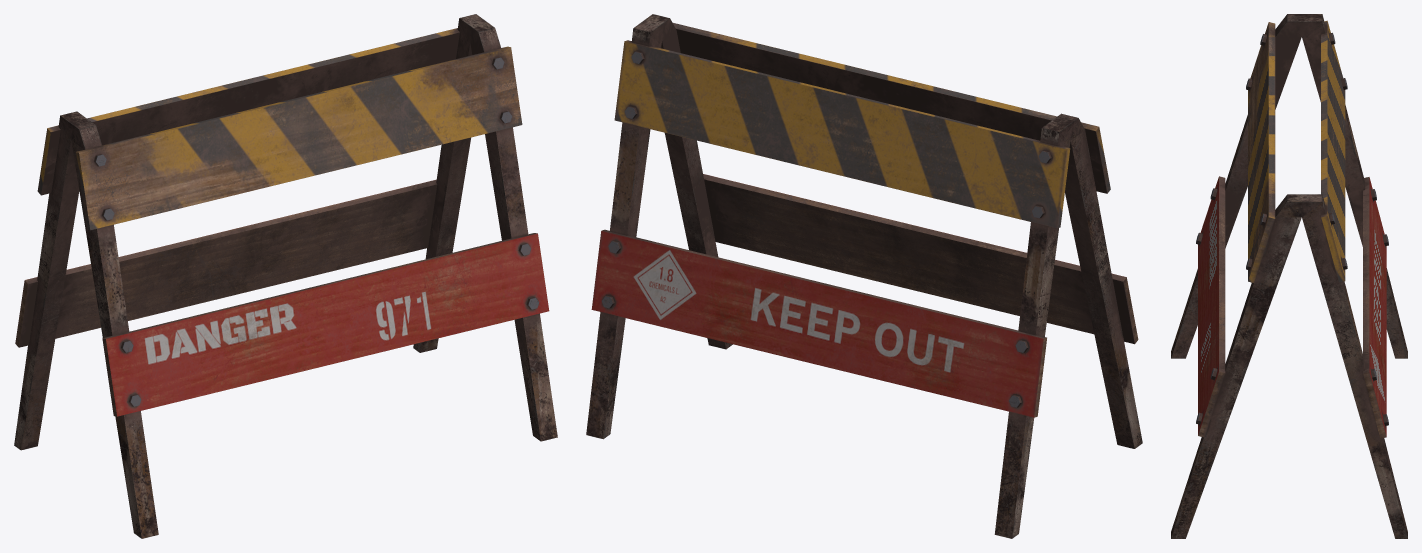
File: free_road_barrier_low-poly_pbr.glb
3 views of the same model, side by side, from view 1: azimuth 30°, elevation 25°; view 2: azimuth 150°, elevation 25°; view 3: azimuth 270°, elevation 25° (orthographic). The views are drawn at different scales.
Visible parts, largest first — view 1: Road_berrier_1; view 2: Road_berrier_1; view 3: Road_berrier_1.
Boxes of the visible parts, x1=… form: Road_berrier_1: x1=14, y1=14, x2=557, y2=538; Road_berrier_1: x1=586, y1=14, x2=1142, y2=538; Road_berrier_1: x1=1171, y1=14, x2=1407, y2=538.
Size of the model in its own units: 2.01 by 1.62 by 1.03.
1 material, 1 textured.
